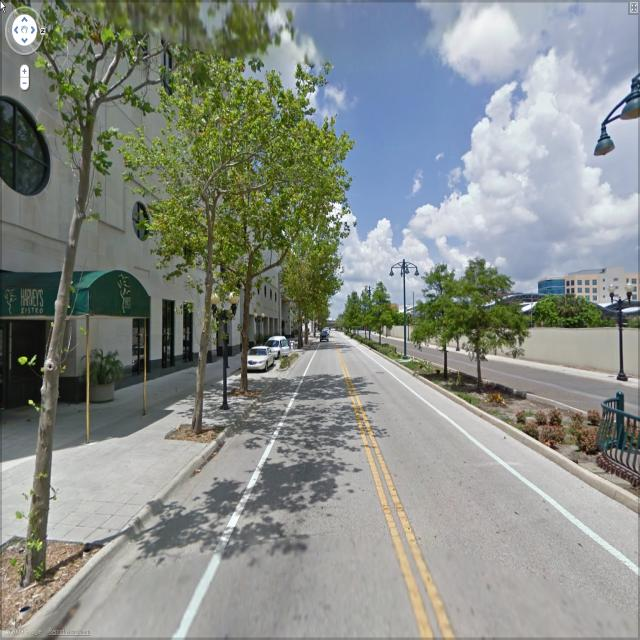b_1: (567, 264, 639, 309), (540, 270, 570, 302)
b_2: (1, 2, 308, 414)
